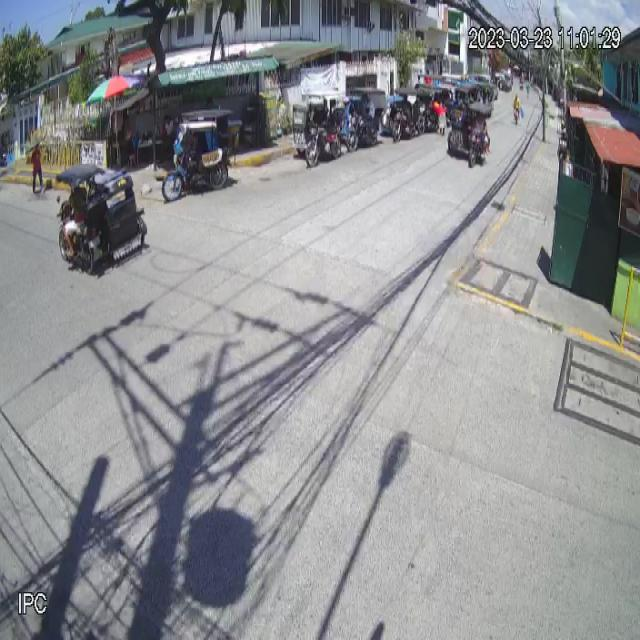Tricycle: (56, 163, 148, 277)
